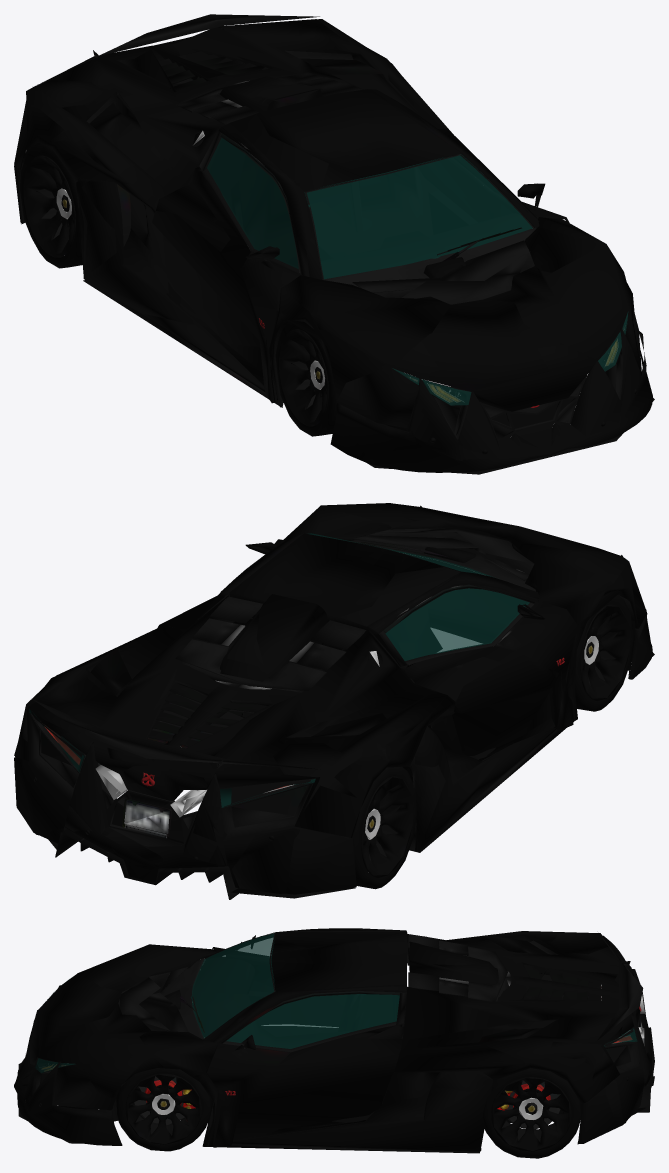
The model's file is v12-goblin-lod3.glb.
3 renders of one model, top to bottom at view 1: azimuth 30°, elevation 25°; view 2: azimuth 150°, elevation 25°; view 3: azimuth 270°, elevation 25°, orthographic. The views are drawn at different scales.
Visible parts, largest first — view 1: car_body, clearcoat, car_glass, car_wheel_BR, car_wheel_FR; view 2: clearcoat, car_body, car_glass, car_wheel_BR, car_wheel_FR; view 3: clearcoat, car_body, car_glass, car_wheel_BL, car_wheel_FL.
Boxes of the visible parts, x1=… form: car_body: x1=17, y1=14, x2=654, y2=474; clearcoat: x1=14, y1=19, x2=652, y2=472; car_glass: x1=207, y1=138, x2=628, y2=405; car_wheel_BR: x1=19, y1=144, x2=82, y2=268; car_wheel_FR: x1=275, y1=321, x2=337, y2=436; clearcoat: x1=14, y1=503, x2=652, y2=894; car_body: x1=15, y1=503, x2=654, y2=899; car_glass: x1=29, y1=533, x2=627, y2=807; car_wheel_BR: x1=353, y1=766, x2=416, y2=889; car_wheel_FR: x1=575, y1=595, x2=633, y2=711; clearcoat: x1=14, y1=928, x2=651, y2=1151; car_body: x1=16, y1=928, x2=654, y2=1153; car_glass: x1=35, y1=933, x2=637, y2=1072; car_wheel_BL: x1=483, y1=1068, x2=581, y2=1158; car_wheel_FL: x1=116, y1=1068, x2=210, y2=1151.
Size of what is drawn, in the model's own units: 2.18 by 1.16 by 4.54.
4 materials, 1 textured.
